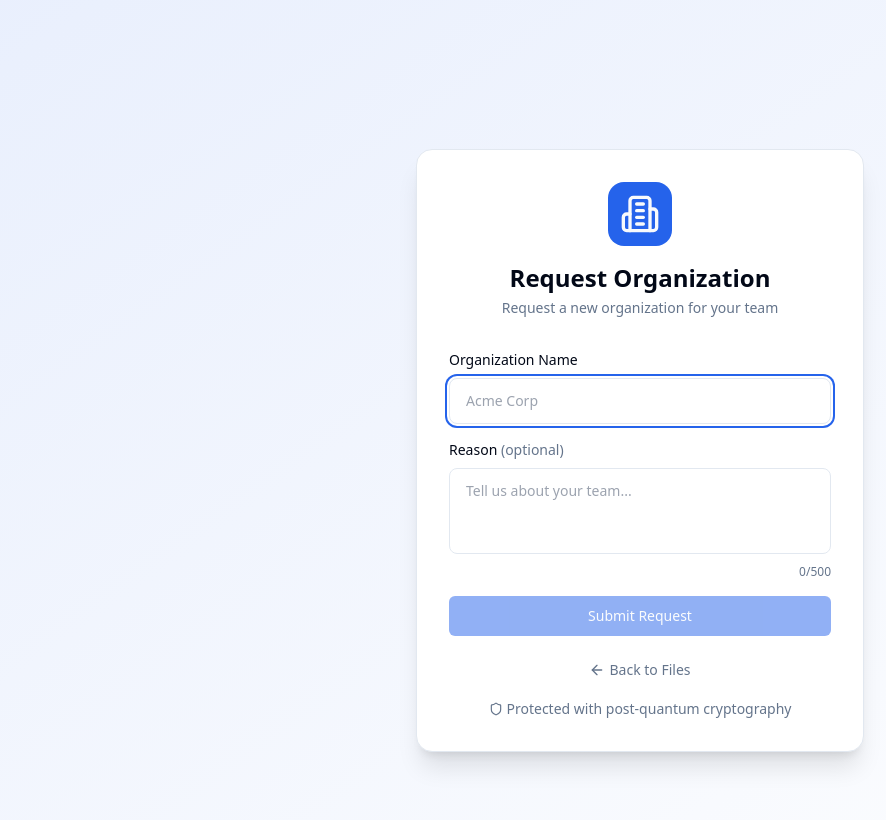
it: TenantRequestPage › error handling › should show conflict error for duplicate request
Type "Test Org" into the field with placeholder "Acme Corp".
click(640, 400); type("Test Org")  # box [449,378,831,424]
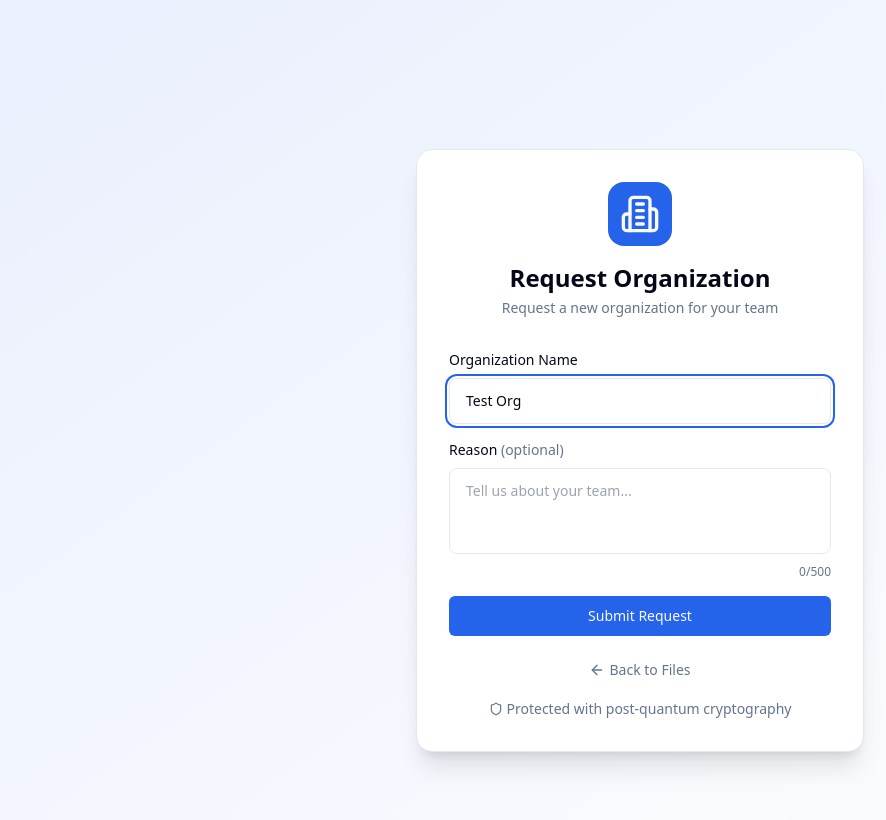
Click the button "Submit Request".
click(640, 616)  # box [449,596,831,636]
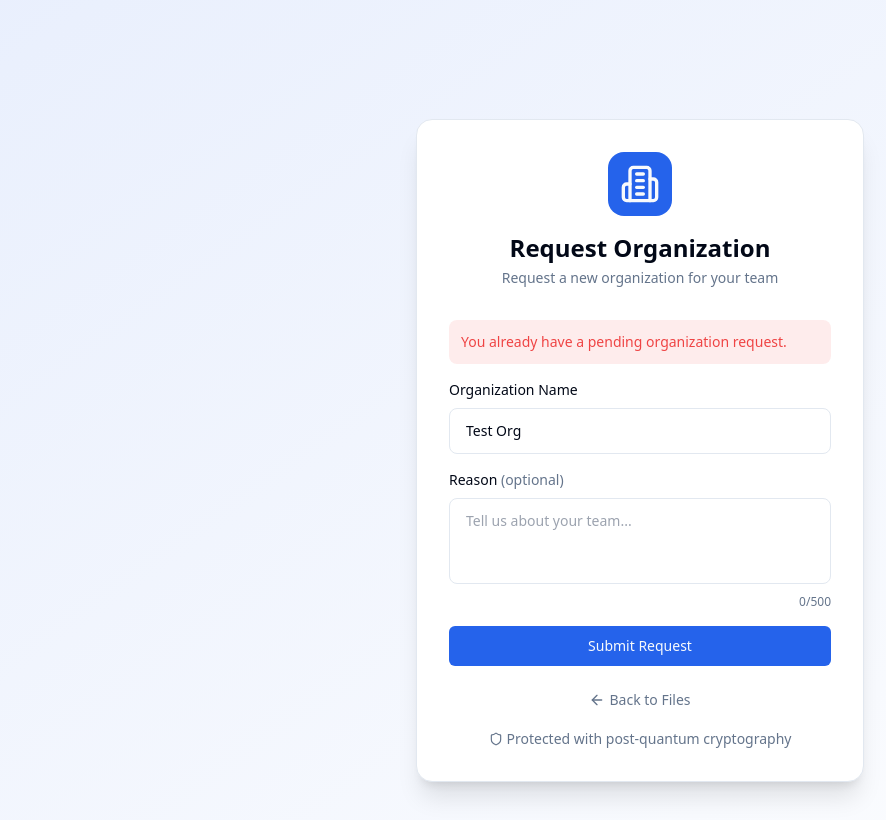
Expected: the text "You already have a pending organization request." is shown, [449,320,831,364]
